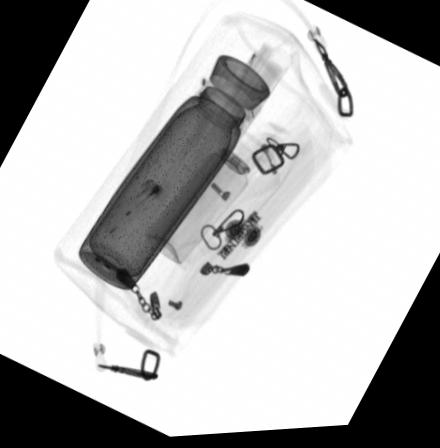Lighter: (98, 179, 164, 239)
Sprayer: (143, 128, 269, 267)
